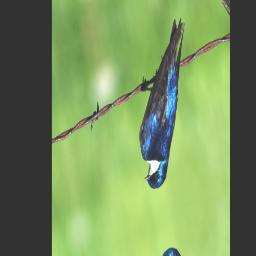Swallow: (123, 14, 207, 195)
